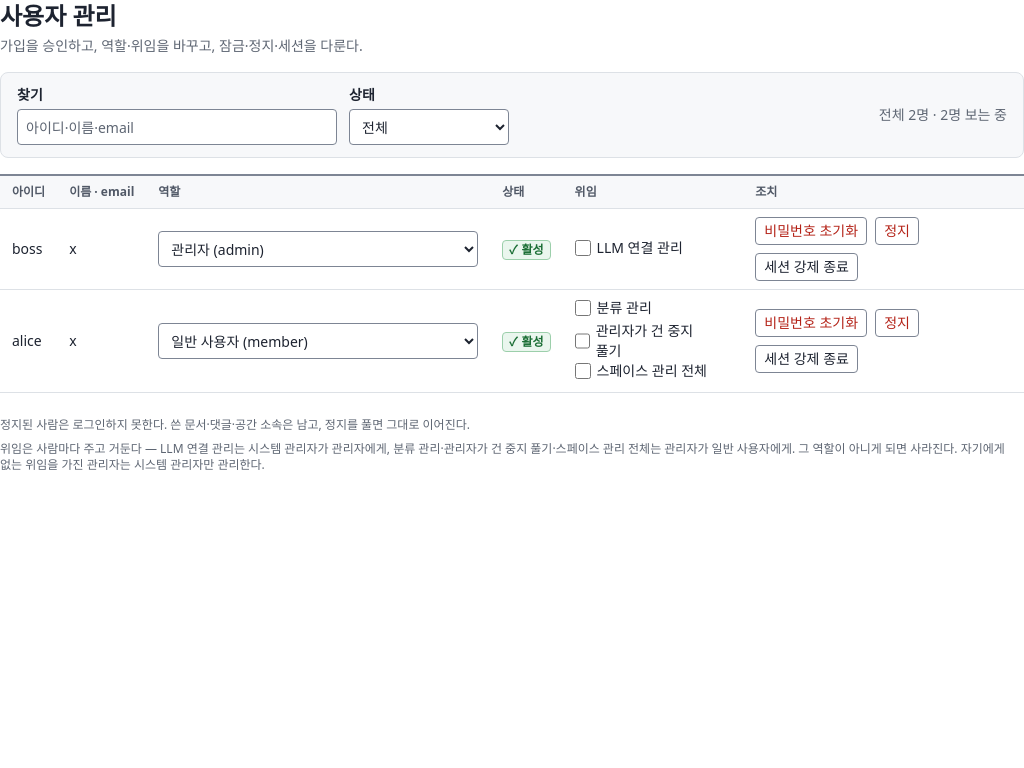
AdminUsersPage — 정지 (P13 C.5, FR-1441) › **묻고 정지한다** — 확인 대화가 누구를 멈추는지와 끊기는 것을 말하고, 그 행은 정지 해제로 바뀐다 (J.5.10)
Expected: the text "alice" is shown, x1=0 y1=290 x2=57 y2=392
Click the button "정지" in the row of "alice" at (897, 323), box x1=875 y1=309 x2=919 y2=337
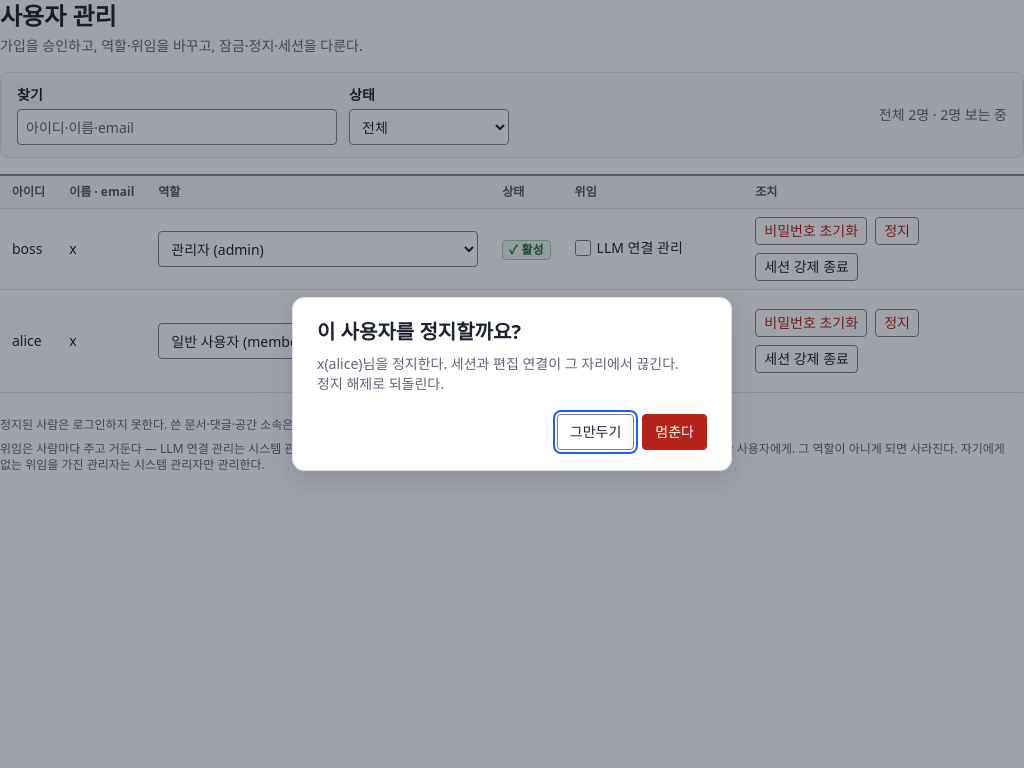
Now the dialog "이 사용자를 정지할까요?" shows "x(alice)님을 정지한다. 세션과 편집 연결이 그 자리에서 끊긴다.", box x1=317 y1=354 x2=679 y2=393
Click the button "멈춘다" at (675, 432), box x1=642 y1=414 x2=707 y2=450
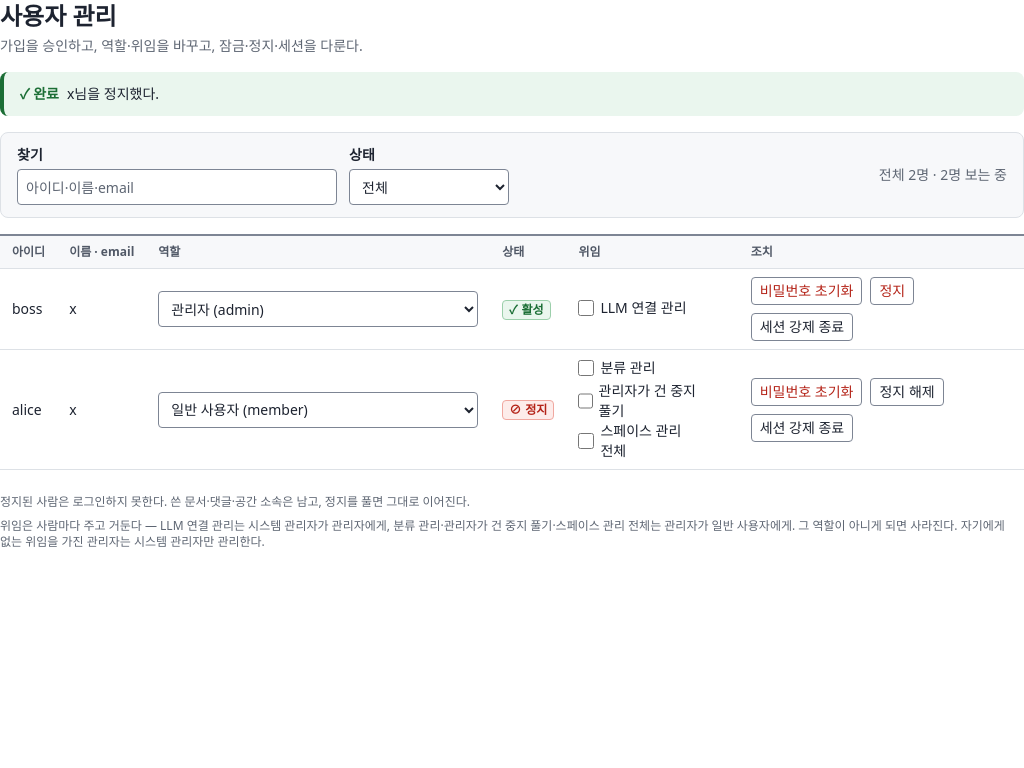
Now the button "정지 해제" is shown, box x1=870 y1=378 x2=944 y2=406
Now the dialog is gone
Now the message reads "x님을 정지했다.", box x1=67 y1=84 x2=159 y2=103
